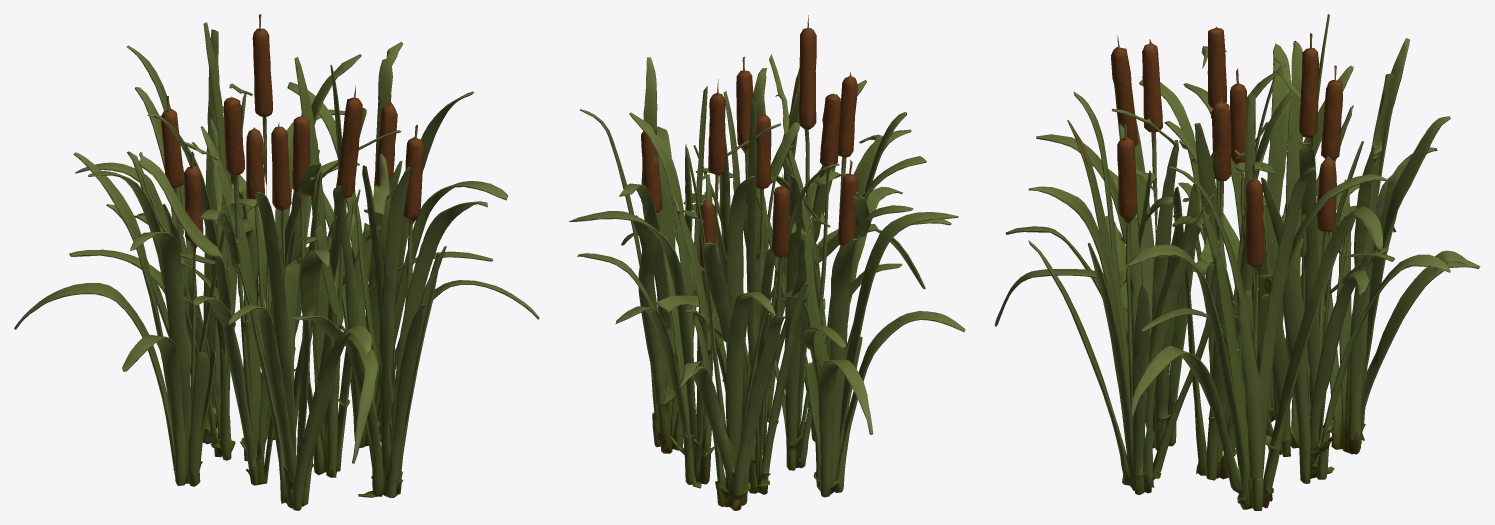
Rendered from reeds-cluster.glb.
3 renders of one model, left to right at view 1: azimuth 30°, elevation 25°; view 2: azimuth 150°, elevation 25°; view 3: azimuth 270°, elevation 25°, orthographic. The views are drawn at different scales.
Parts seen in each view (by area): view 1: tripo_node_686af4b0-e781-43fb-a708-ad26e768a831; view 2: tripo_node_686af4b0-e781-43fb-a708-ad26e768a831; view 3: tripo_node_686af4b0-e781-43fb-a708-ad26e768a831.
Boxes of the visible parts, x1,y1,x2,y2 form: tripo_node_686af4b0-e781-43fb-a708-ad26e768a831: (14, 14, 539, 510); tripo_node_686af4b0-e781-43fb-a708-ad26e768a831: (569, 15, 965, 510); tripo_node_686af4b0-e781-43fb-a708-ad26e768a831: (994, 14, 1480, 510).
Size of the model in its own units: 1.15 by 1.2 by 1.21.
1 material, 1 textured.
